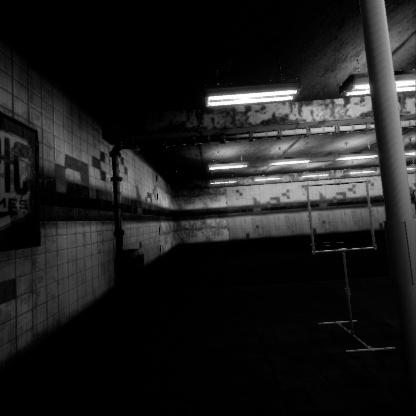gate: (305, 161, 381, 236)
